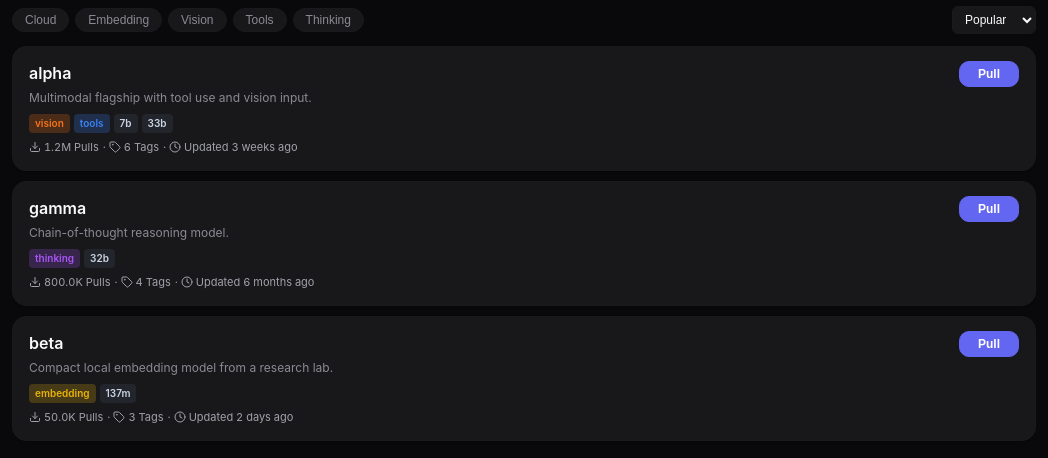
Test: OllamaLibraryView › filter chip narrows results to entries with that capability
Expected: the number of elements with test id "ollama-library-card" is 3, [12,46,1036,171]; [12,181,1036,306]; [12,316,1036,441]
Click the button with test id "filter-chip-vision" at (197, 20), box [168,8,227,32]
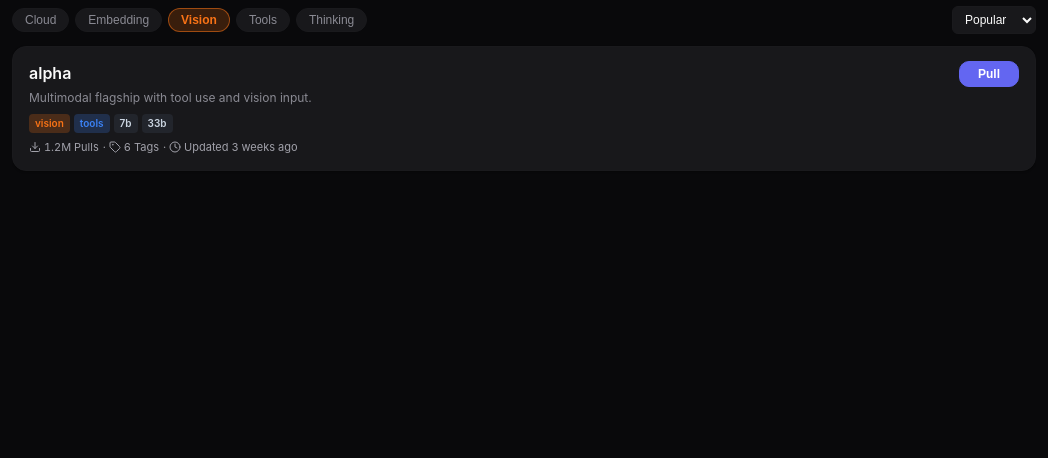
Expected: the heading "alpha" is shown, [29,63,71,83]
Now the number of elements with test id "ollama-library-card" is 1, box [12,46,1036,171]
